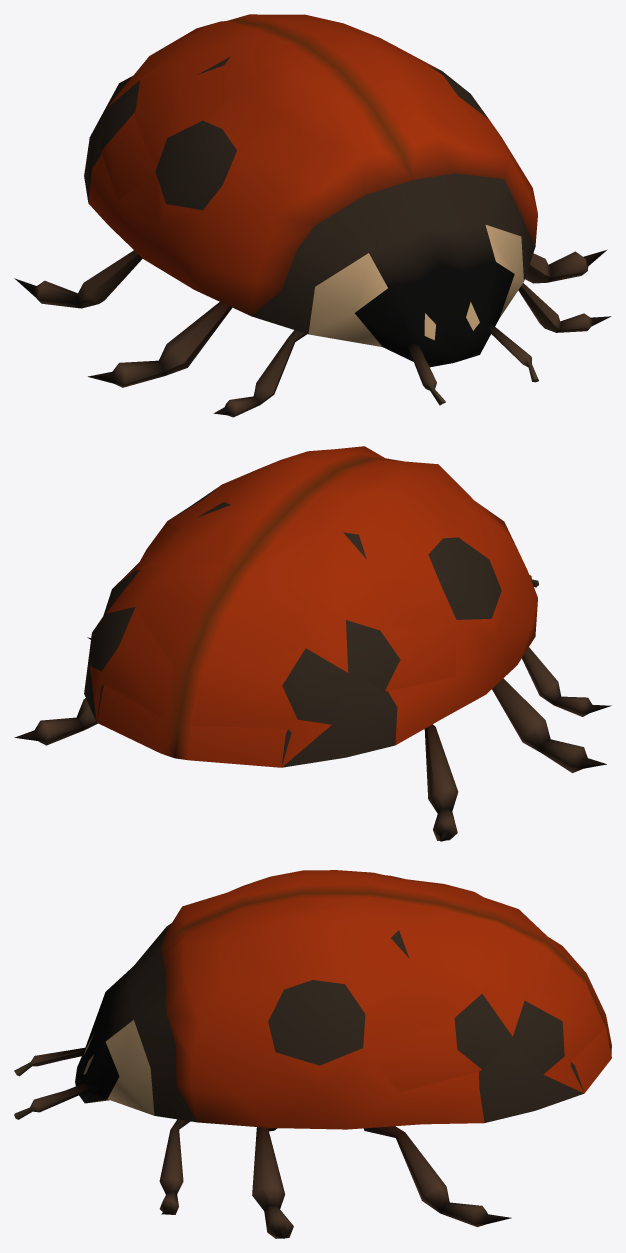
The model's file is Ladybug.glb.
3 views of the same model, one above another, from view 1: azimuth 30°, elevation 25°; view 2: azimuth 150°, elevation 25°; view 3: azimuth 270°, elevation 25° (orthographic). The views are drawn at different scales.
Visible parts, largest first — view 1: alt1, alt2; view 2: alt1, alt2; view 3: alt1, alt2.
Boxes of the visible parts, bbox=[...] form: alt1: bbox=[14, 14, 611, 417]; alt2: bbox=[91, 14, 440, 200]; alt1: bbox=[14, 446, 611, 841]; alt2: bbox=[89, 470, 456, 766]; alt1: bbox=[14, 870, 611, 1238]; alt2: bbox=[337, 870, 605, 1093].
Bounding box in the file's own units: 0.8329 × 0.3907 × 0.8749.
